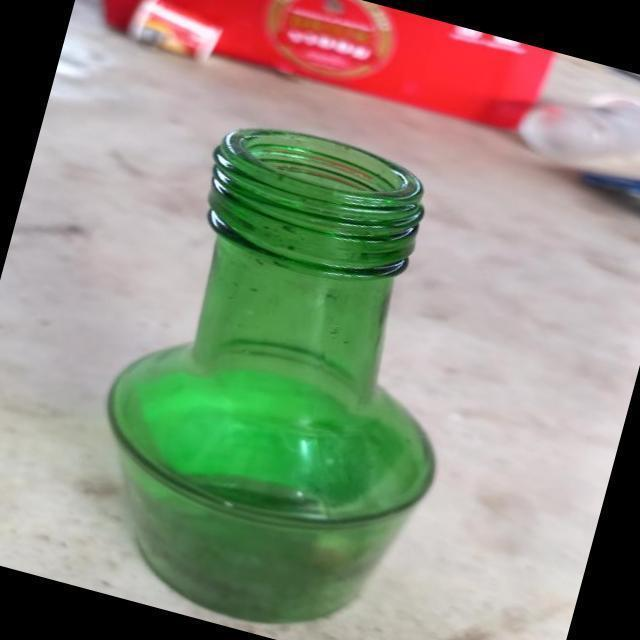Glass: (108, 61, 600, 638)
